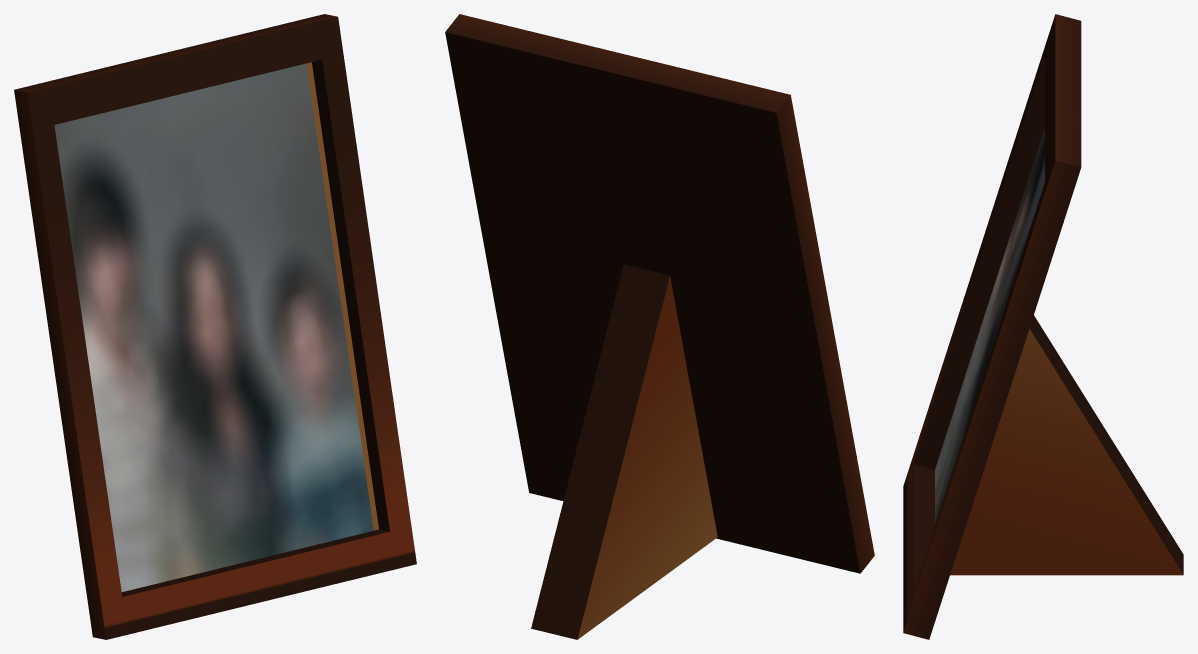
Rendered from autoretratocontexturas.fbx.
The picture shows the model from 3 angles, left to right: view 1: azimuth 30°, elevation 25°; view 2: azimuth 150°, elevation 25°; view 3: azimuth 270°, elevation 25°; orthographic projection. The views are drawn at different scales.
Visible parts, largest first — view 1: pCube1; view 2: pCube1; view 3: pCube1.
Part boxes in pixels (x1=…): pCube1: x1=14, y1=14, x2=416, y2=639; pCube1: x1=445, y1=14, x2=874, y2=639; pCube1: x1=903, y1=14, x2=1183, y2=639.
Size of the model in its own units: 3.82 by 5.84 by 3.09.
Materials: 1 (1 with a texture image).
